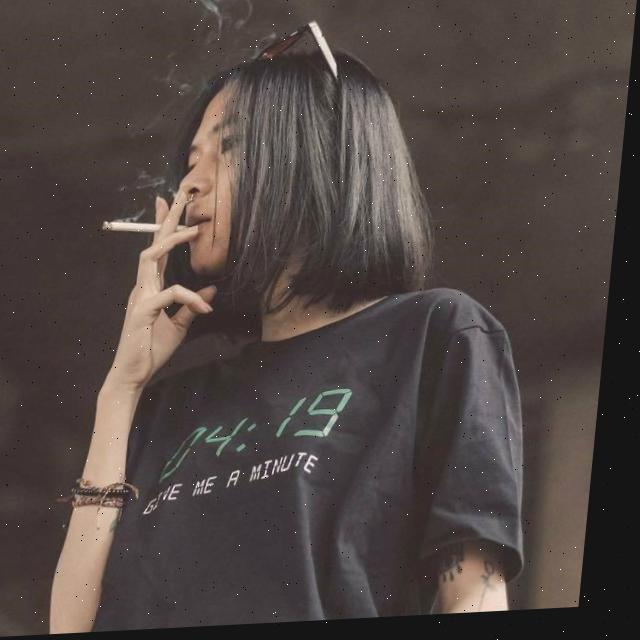cigarette: (106, 219, 193, 237)
